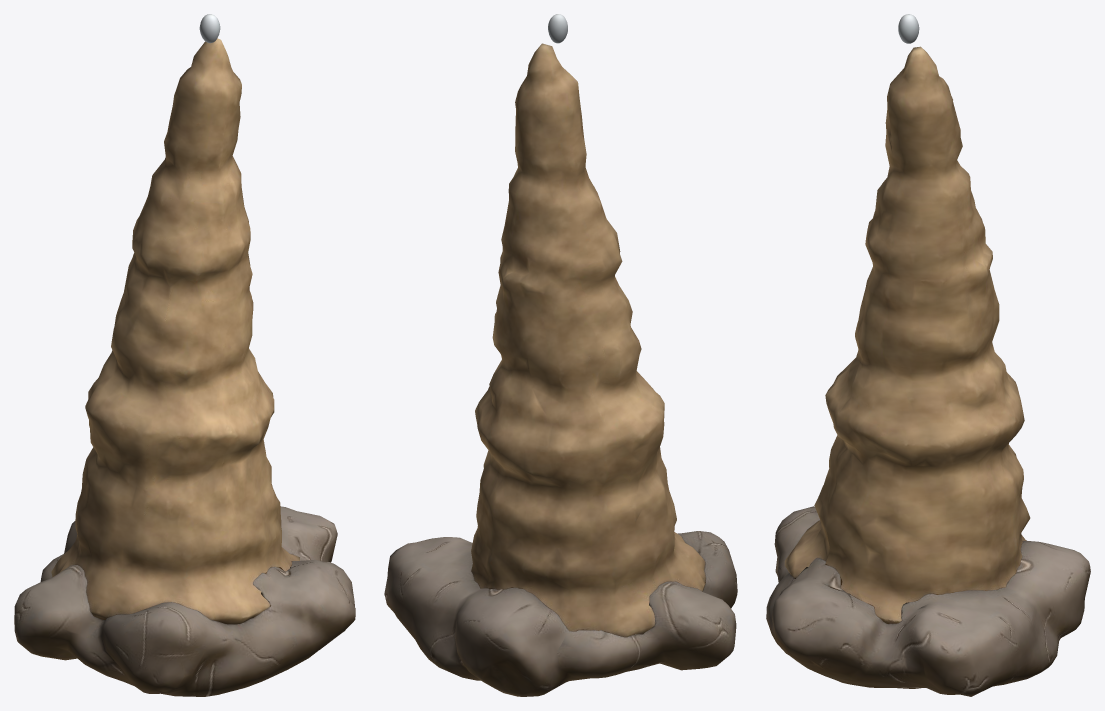
The model's file is drip_b.glb.
The picture shows the model from 3 angles, left to right: view 1: azimuth 30°, elevation 25°; view 2: azimuth 150°, elevation 25°; view 3: azimuth 270°, elevation 25°; orthographic projection. The views are drawn at different scales.
Parts seen in each view (by area): view 1: stone, rock; view 2: stone, rock; view 3: stone, rock, drop.
Part boxes in pixels (x1,y1,x2,y2): stone: (51, 38, 299, 624); rock: (14, 506, 355, 696); stone: (471, 43, 705, 637); rock: (384, 531, 737, 696); stone: (784, 46, 1030, 623); rock: (766, 506, 1090, 696); drop: (898, 14, 919, 43).
Size of the model in its own units: 0.6615 by 1.24 by 0.5559.
3 materials, 3 textured.
